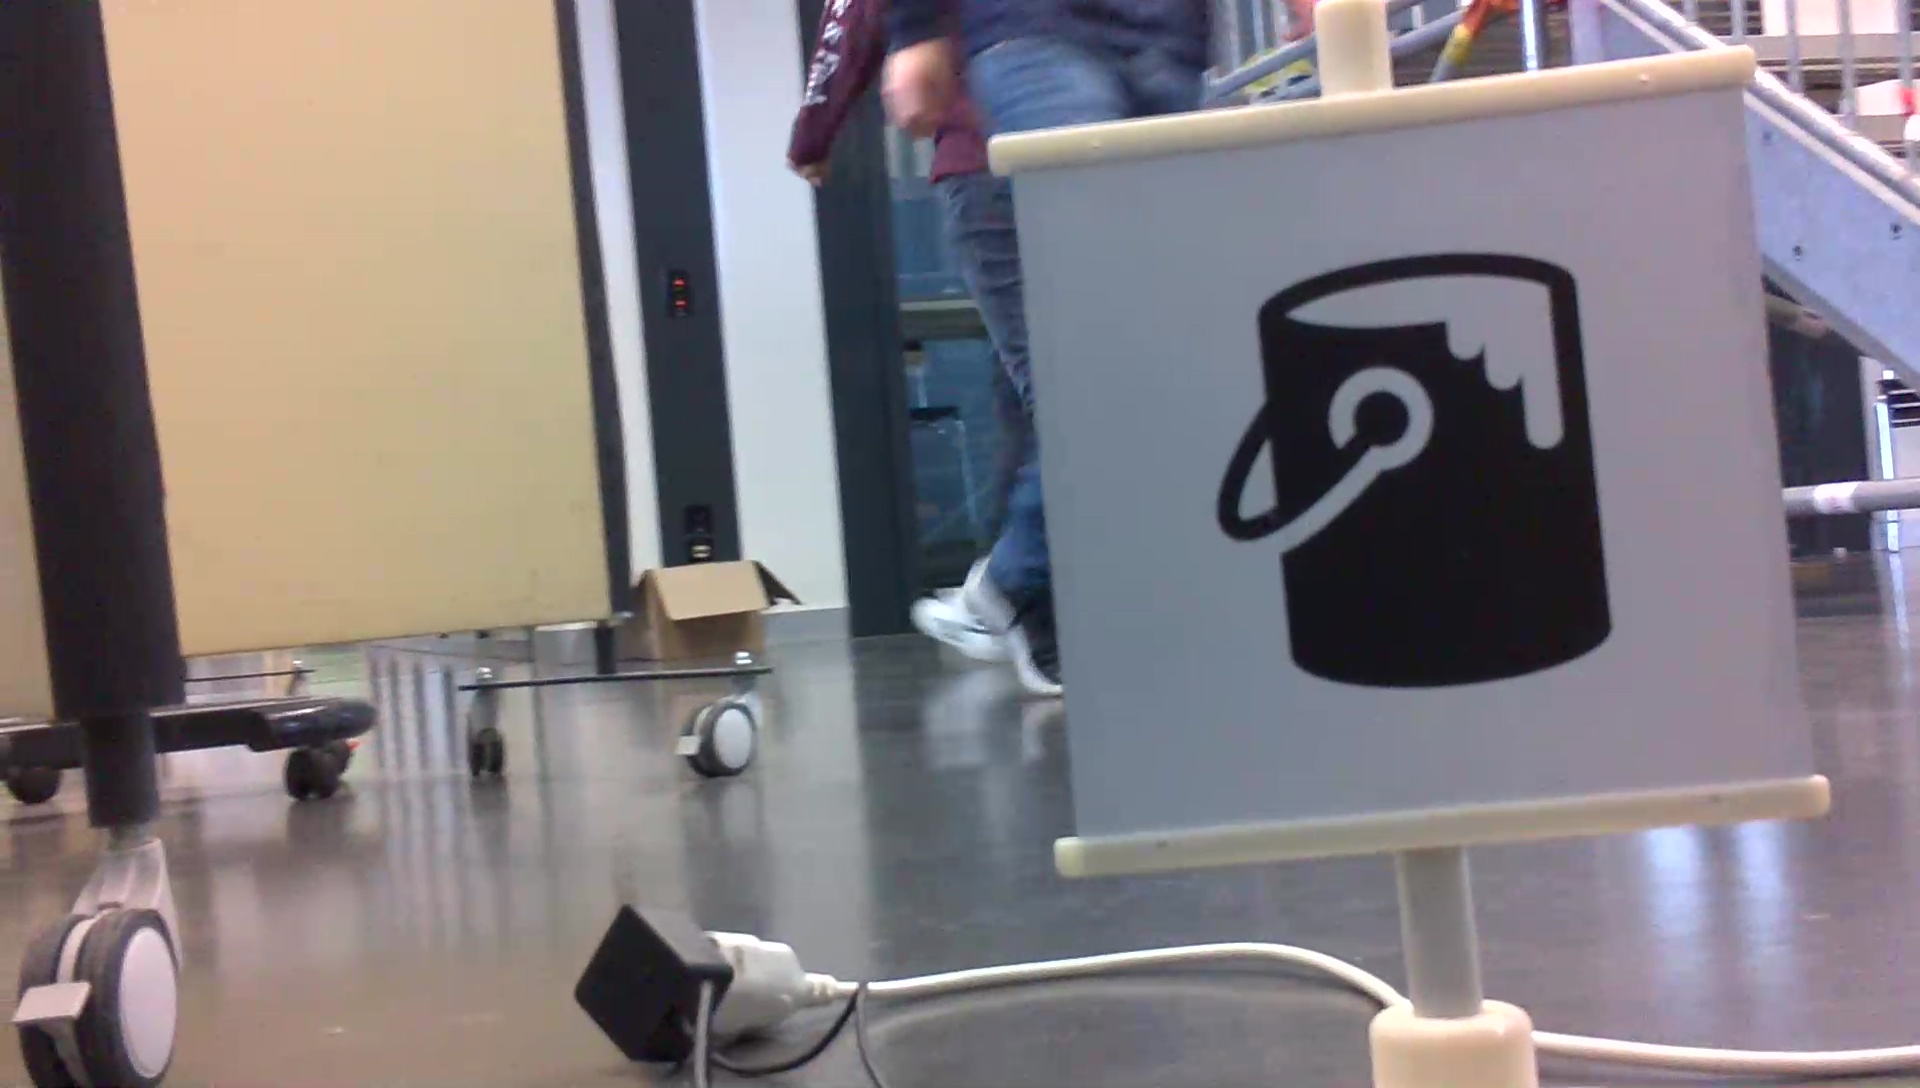bucket: (1203, 243, 1629, 700)
